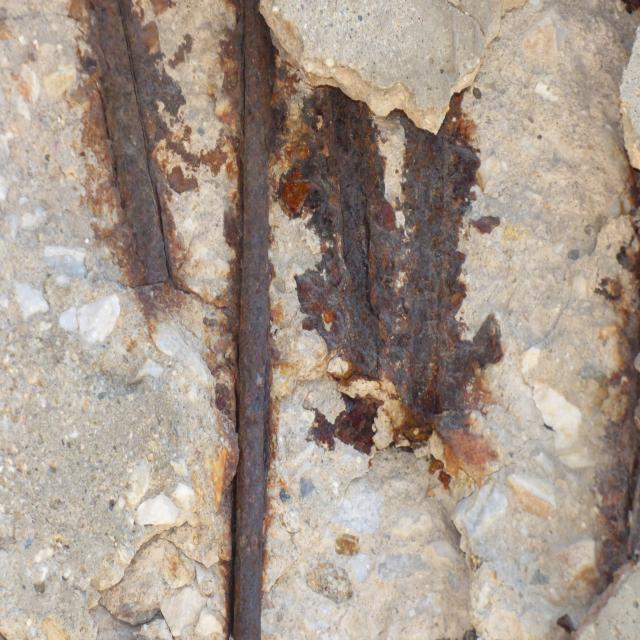corrosion: (62, 0, 515, 640), (562, 148, 640, 634), (622, 0, 640, 22)
